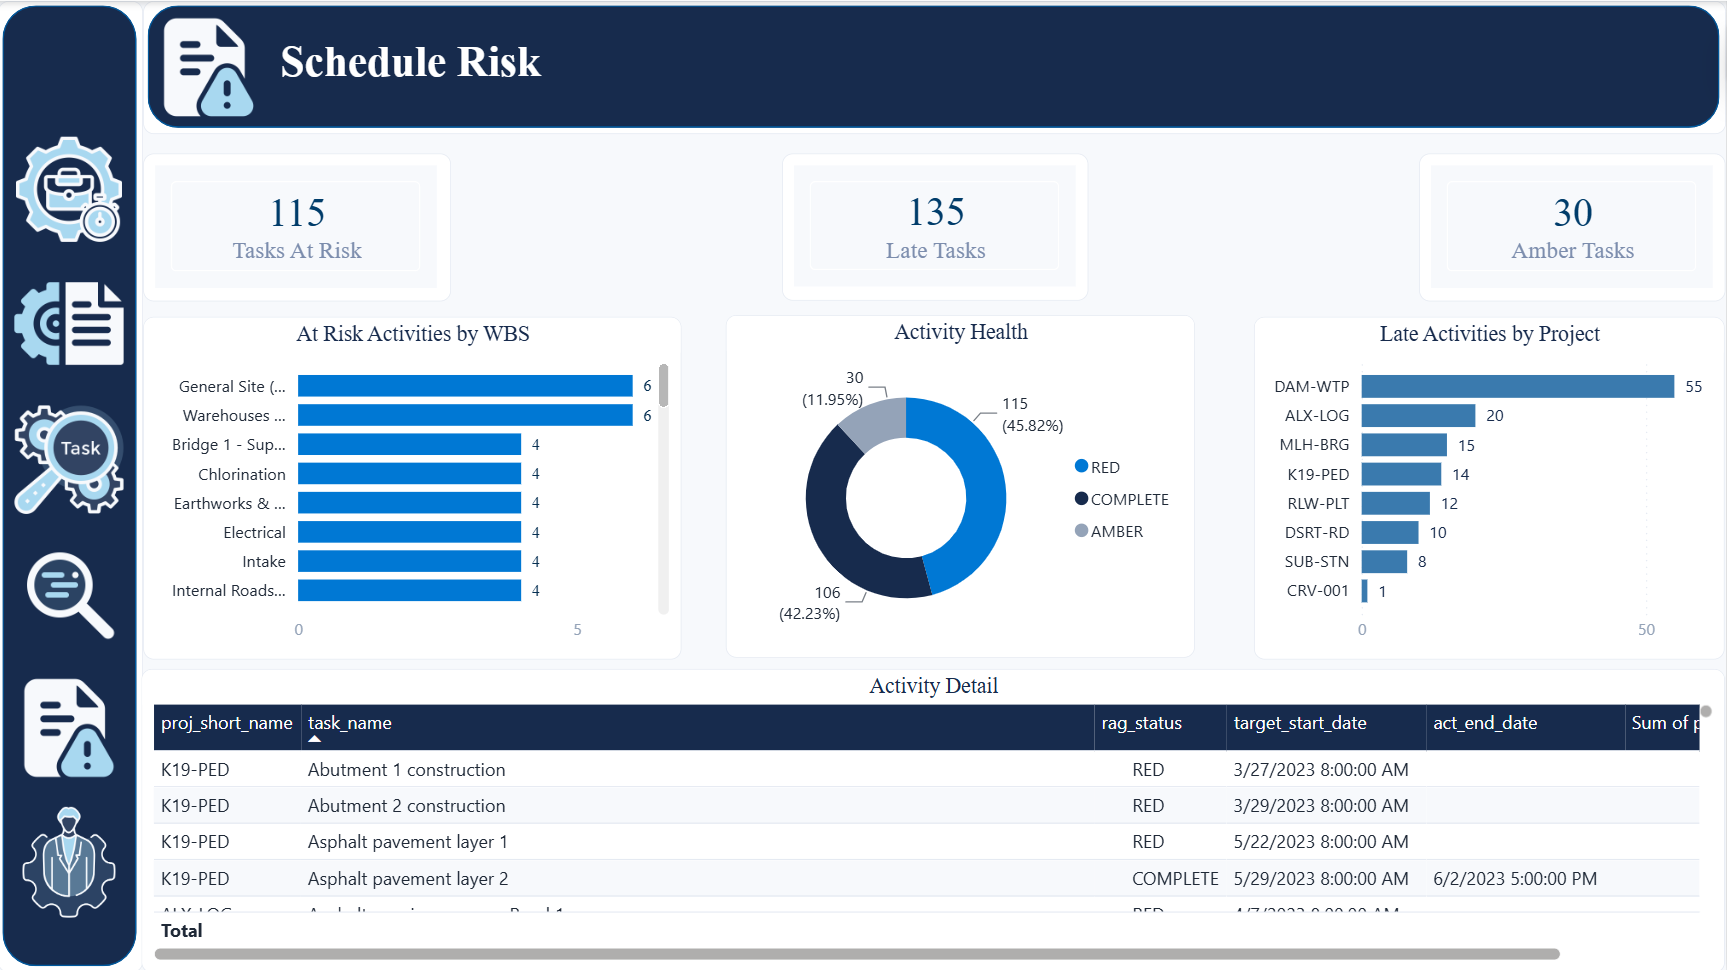

Layout of this report page (visuals, bound fields, positions):
{"tool":"powerbi","page":{"name":"Risks","canvas":[1280,720],"ordinal":4},"visuals":[{"type":"shape","box":[107.2,0,1172.8,98.6],"z":0},{"type":"shape","box":[0,0,107.3,720],"z":1000},{"type":"textbox","box":[196.4,20.9,696.4,55.5],"z":2000},{"type":"donutChart","title":"\tActivity Health","fields":{"Category":["Fact_Task_EVM.rag_status"],"Y":["Measurees.Total Tasks"]},"box":[539.4,232.6,347.6,254],"z":3000},{"type":"barChart","title":"\tLate Activities by Project","fields":{"Category":["Dim_Project.proj_short_name"],"Y":["Measurees.Late Tasks"]},"box":[931.2,233.6,348.8,253.9],"z":4000},{"type":"barChart","title":"\tAt Risk Activities by WBS","fields":{"Category":["Dim_WBS_Task.wbs_name"],"Y":["Measurees.Tasks At Risk"]},"box":[107.7,233.6,398.9,253.9],"z":5000},{"type":"cardVisual","fields":{"Data":["Measurees.Tasks At Risk"]},"box":[107.1,112.6,228,109.9],"z":6000},{"type":"cardVisual","fields":{"Data":["Measurees.Amber Tasks"]},"box":[1052.8,113.1,227.2,109.9],"z":7000},{"type":"cardVisual","fields":{"Data":["Measurees.Late Tasks"]},"box":[580.5,113,227,109],"z":8000},{"type":"tableEx","title":"\tActivity Detail","fields":{"Values":["Dim_Project.proj_short_name","Dim_WBS_Task.task_name","Fact_Task_EVM.rag_status","Fact_Task_EVM.target_start_date","Fact_Task_EVM.act_end_date","Sum(Fact_Task_EVM.phys_complete_pct)"]},"box":[106.6,494.9,1173.4,225.2],"z":9000},{"type":"image","box":[12.7,98.2,80.9,82.7],"z":10000},{"type":"image","box":[12.7,198.2,80.9,82.7],"z":11000},{"type":"image","box":[12.7,298.2,80.9,82.7],"z":12000},{"type":"image","box":[12.7,398.2,80.9,82.7],"z":13000},{"type":"image","box":[12.7,597.3,80.9,81.8],"z":14000},{"type":"image","box":[12.7,498.2,80.9,81.8],"z":15000},{"type":"image","box":[115.5,8.2,80.9,81.8],"z":16000}]}

Visuals, with their boxes on the page's 1280x720 design canvas (x1, y1, x2, y2). These are canvas units, not pixel positions in the 1727x970 screenshot, which may show the page scaled, cropped or inside an application window:
shape: bbox=[107, 0, 1280, 99]
shape: bbox=[0, 0, 107, 720]
textbox: bbox=[196, 21, 893, 76]
"	Activity Health" donutChart: bbox=[539, 233, 887, 487]
"	Late Activities by Project" barChart: bbox=[931, 234, 1280, 488]
"	At Risk Activities by WBS" barChart: bbox=[108, 234, 507, 488]
cardVisual - Measurees.Tasks At Risk: bbox=[107, 113, 335, 222]
cardVisual - Measurees.Amber Tasks: bbox=[1053, 113, 1280, 223]
cardVisual - Measurees.Late Tasks: bbox=[580, 113, 808, 222]
"	Activity Detail" tableEx: bbox=[107, 495, 1280, 720]
image: bbox=[13, 98, 94, 181]
image: bbox=[13, 198, 94, 281]
image: bbox=[13, 298, 94, 381]
image: bbox=[13, 398, 94, 481]
image: bbox=[13, 597, 94, 679]
image: bbox=[13, 498, 94, 580]
image: bbox=[116, 8, 196, 90]
